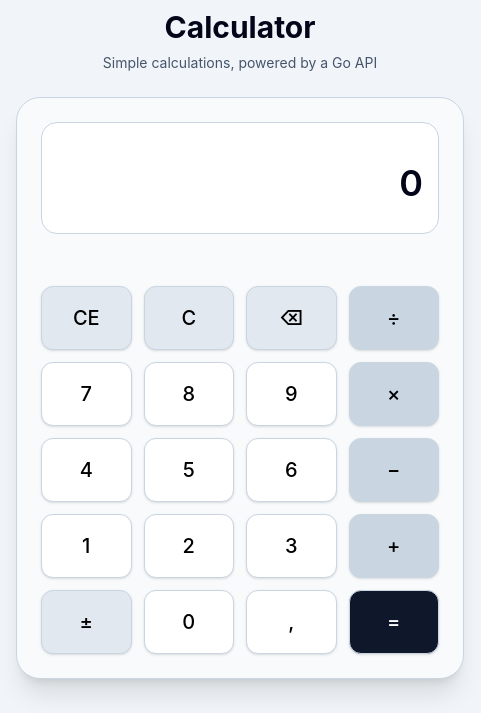
Calculator › calculations › performs subtraction through the calculator API
Step 1. Click the button "9" → (291, 394), box [246,362,336,426]
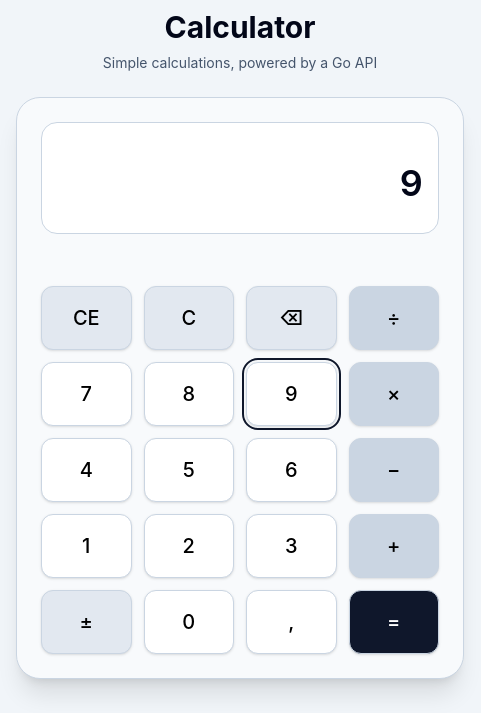
Step 2. Click the button named "Subtract" → (394, 470), box [348,438,439,502]
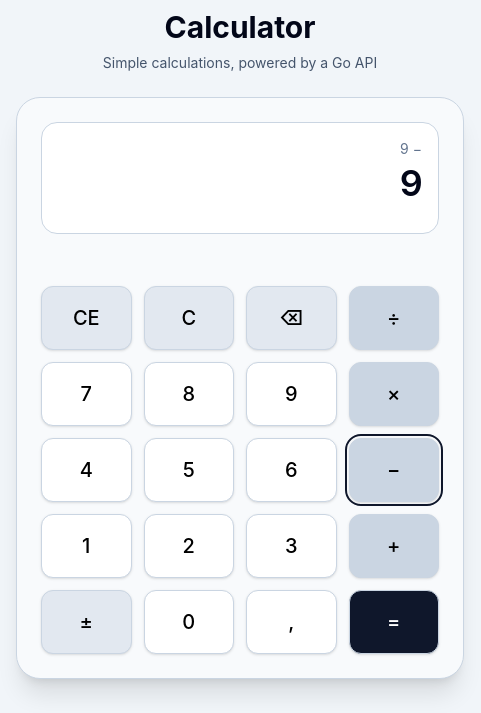
Step 3. Click the button "4" → (86, 470), box [41,438,132,502]
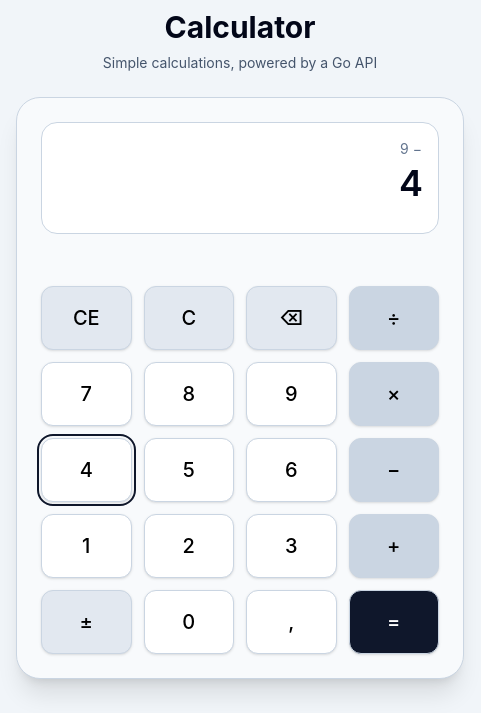
Step 4. Click the button named "Calculate result" → (394, 622), box [348,590,439,654]
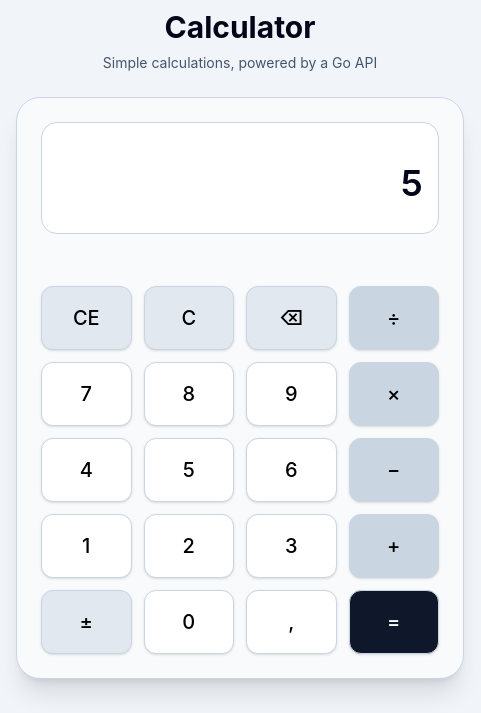
expect the text named "Calculator display" reads "5": met, box [401,161,422,205]
